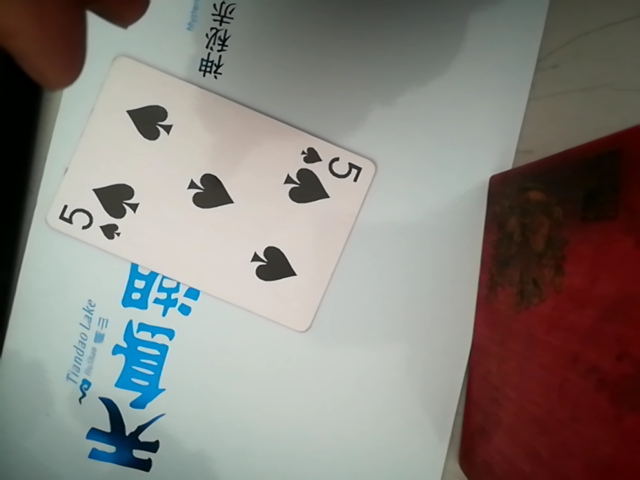ht 5: (52, 45, 376, 329)
